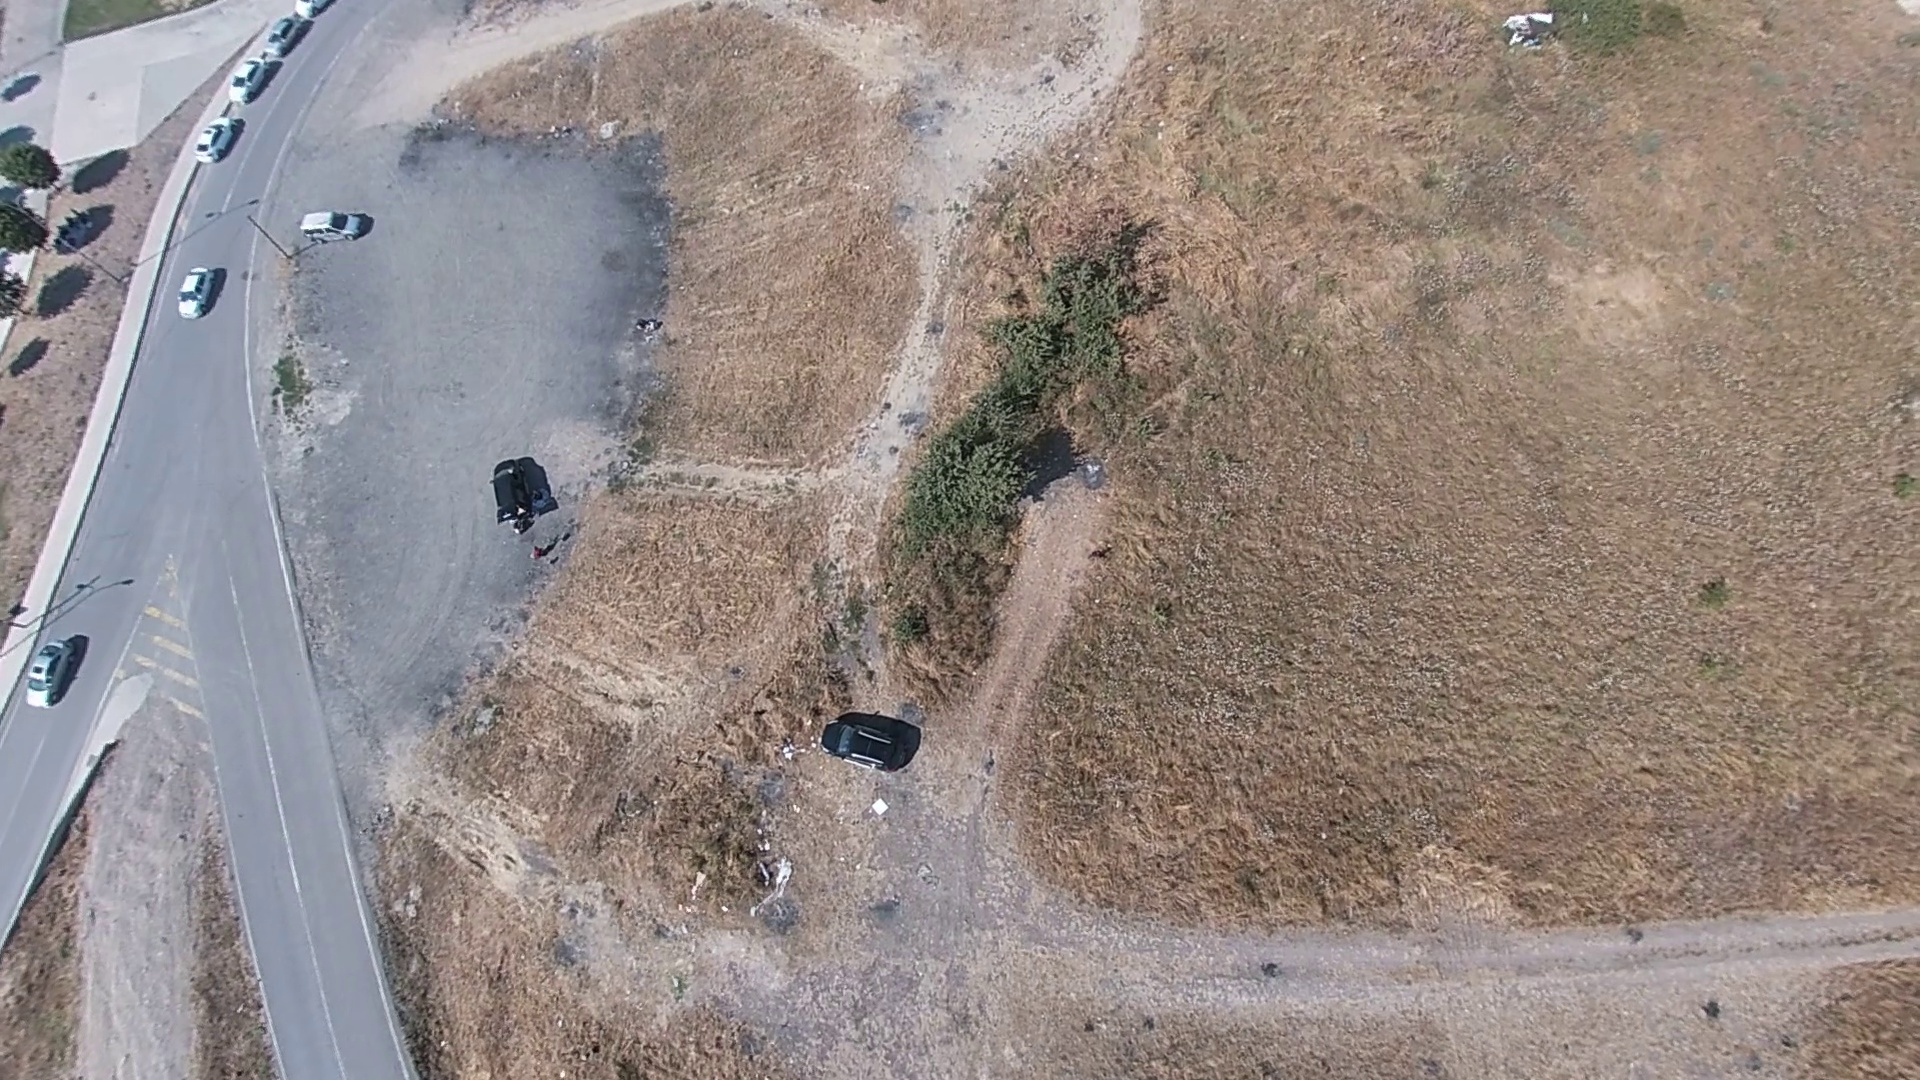araba: (819, 711, 923, 771), (21, 630, 88, 712), (491, 451, 529, 522), (175, 261, 223, 318), (297, 210, 365, 247), (224, 55, 276, 102), (258, 9, 307, 57), (193, 112, 237, 161)
